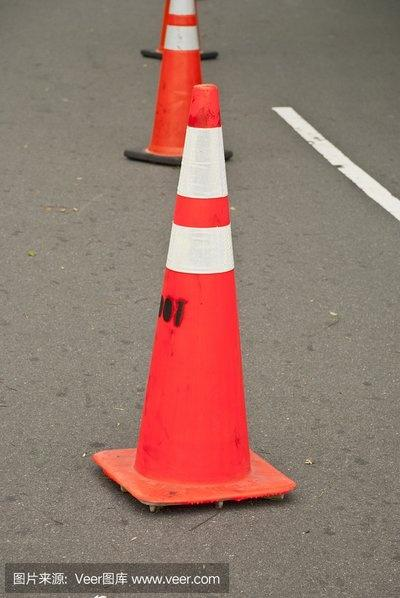cone_barrel: (122, 85, 266, 503), (129, 7, 212, 161)
